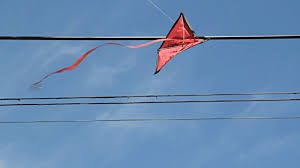kite: (25, 11, 209, 87)
